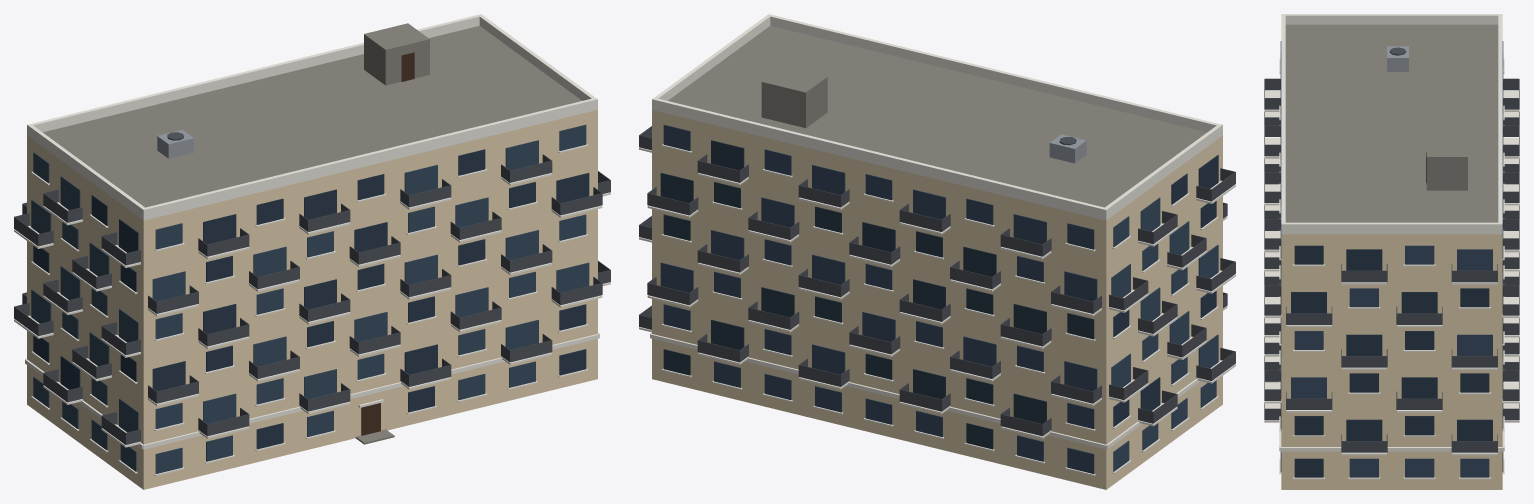
The model's file is apt_a.glb.
3 renders of one model, left to right at view 1: azimuth 30°, elevation 25°; view 2: azimuth 150°, elevation 25°; view 3: azimuth 270°, elevation 25°, orthographic. The views are drawn at different scales.
Parts seen in each view (by area): view 1: apt_a; view 2: apt_a; view 3: apt_a.
Boxes of the visible parts, left/top/right/bottom form: apt_a: left=14, top=14, right=610, bottom=489; apt_a: left=639, top=14, right=1235, bottom=489; apt_a: left=1264, top=14, right=1519, bottom=489.
Size of what is drawn, in the model's own units: 38.48 by 23.2 by 18.48.
